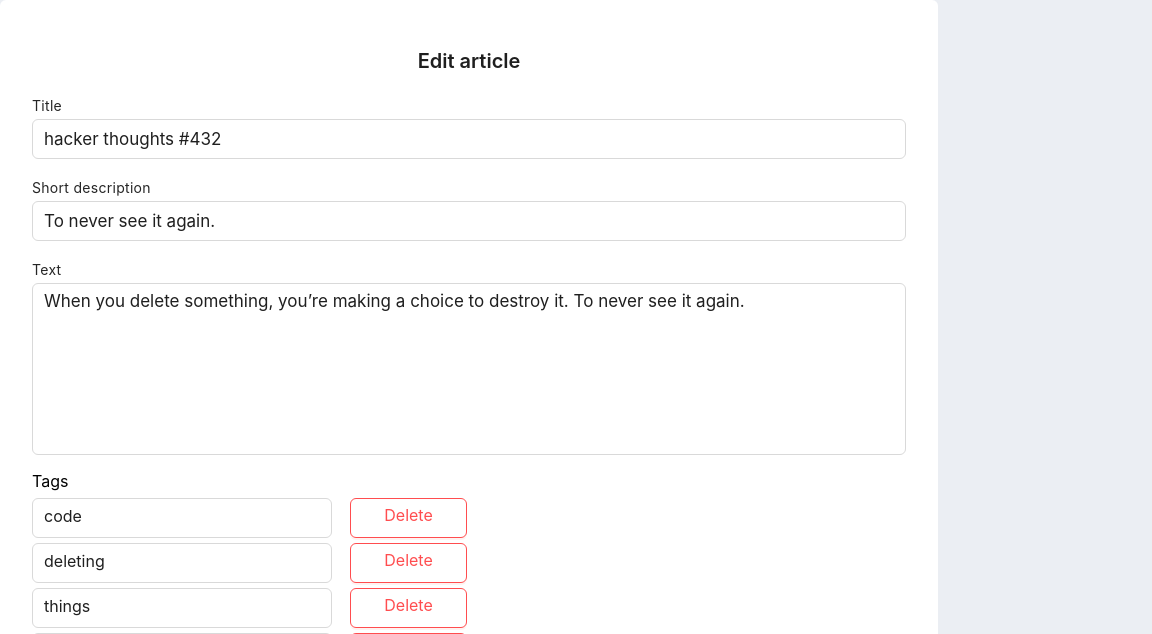
it: Component: CreateNewPost › should remove tag when user click remove tag button
Expected: the heading "Edit article" is shown, 418,49 -> 520,73
Expected: the 1st field showing "code" is shown, 32,498 -> 332,538
Click the 1st button "Delete". click: (408, 518)
box: 350,498 -> 467,538
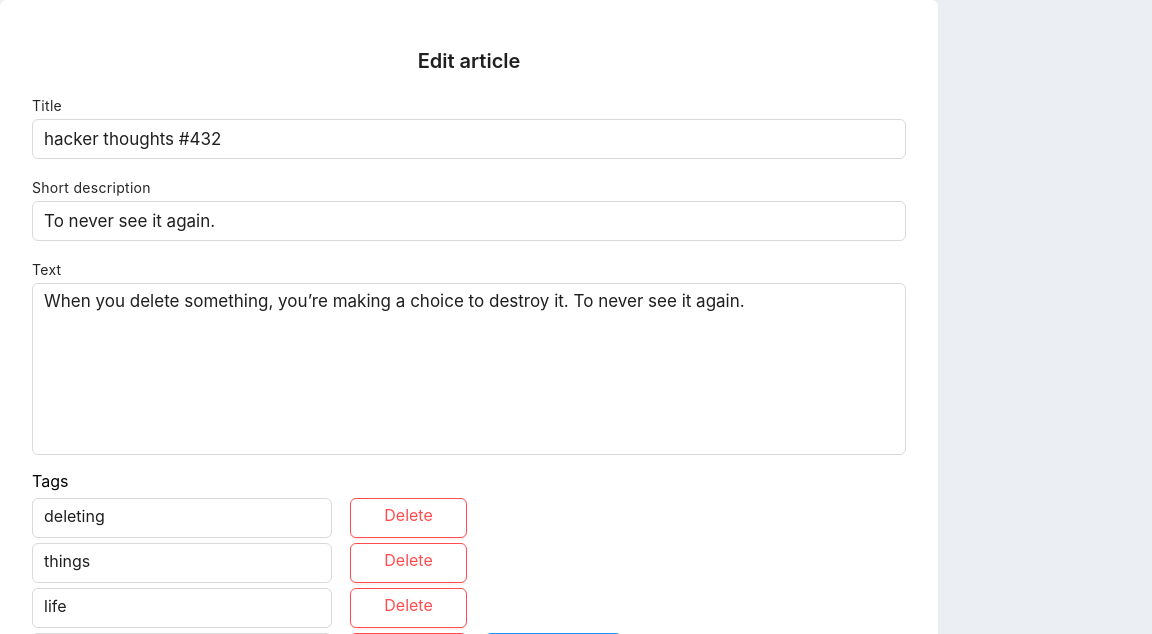
Click the 1st button "Delete". click: (408, 518)
box: 350,498 -> 467,538
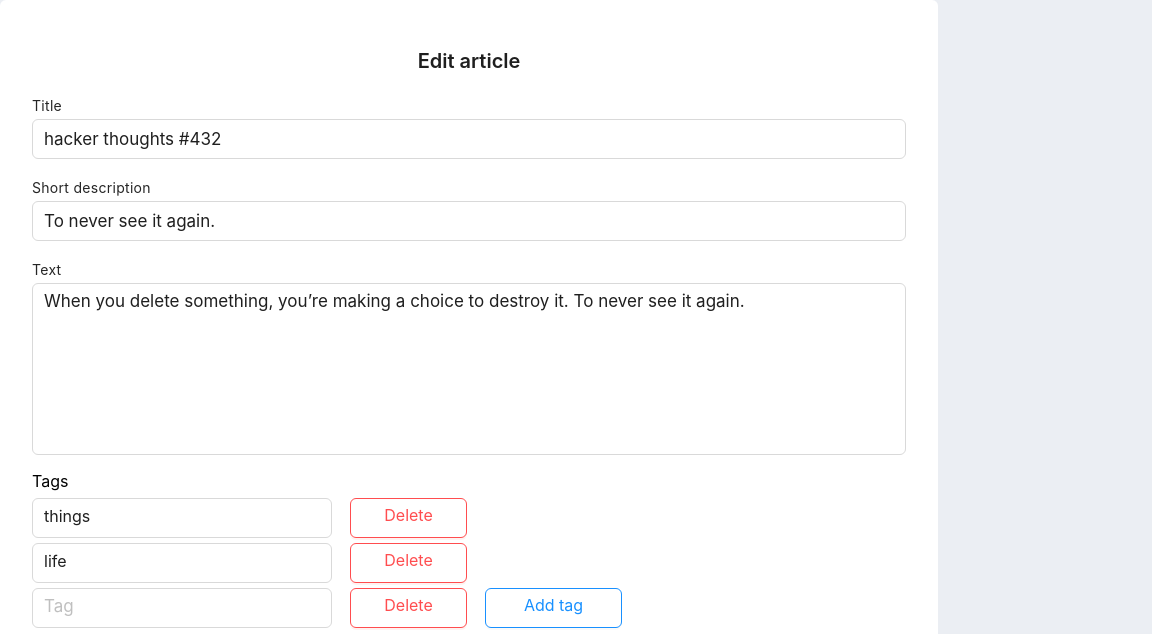
Expected: the field showing "code" is not shown
Now the field showing "deleting" is gone
